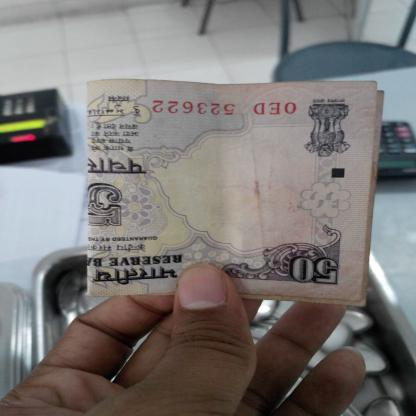Old50Front: (86, 78, 384, 307)
